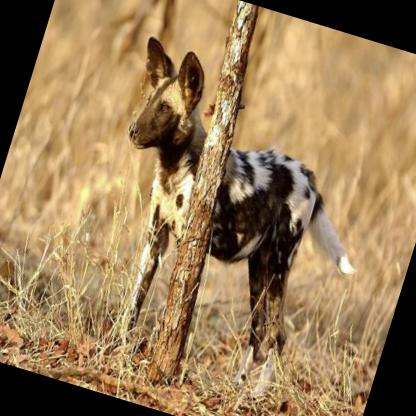African_hunting_dog: (43, 24, 406, 416)
